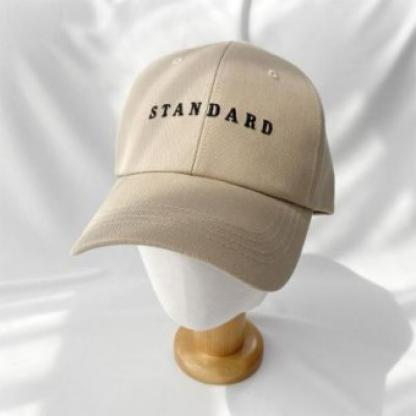cap: (60, 30, 356, 298)
